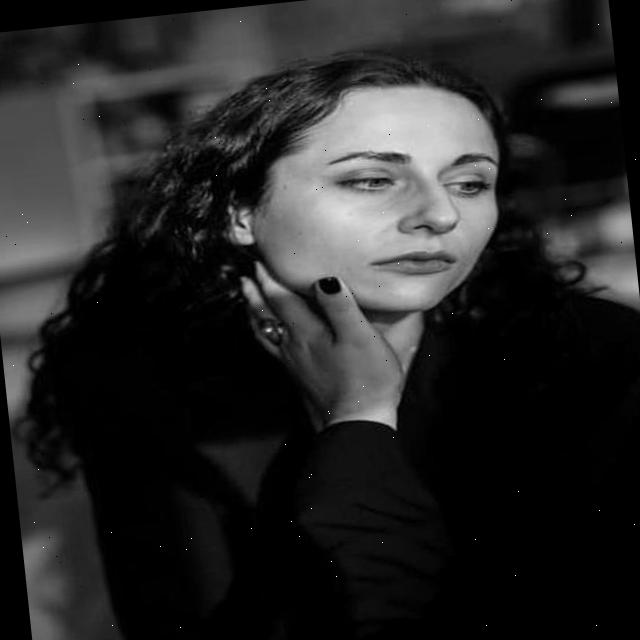Sadness: (293, 70, 512, 319)
